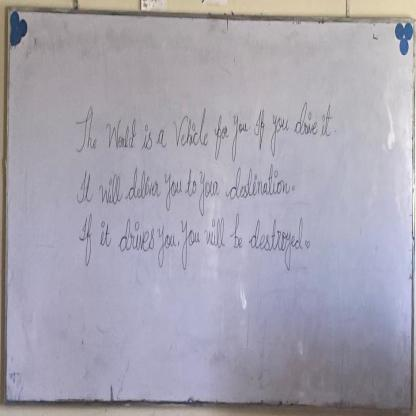Handwritten text: (68, 89, 334, 163), (70, 217, 306, 282), (68, 165, 294, 213)
